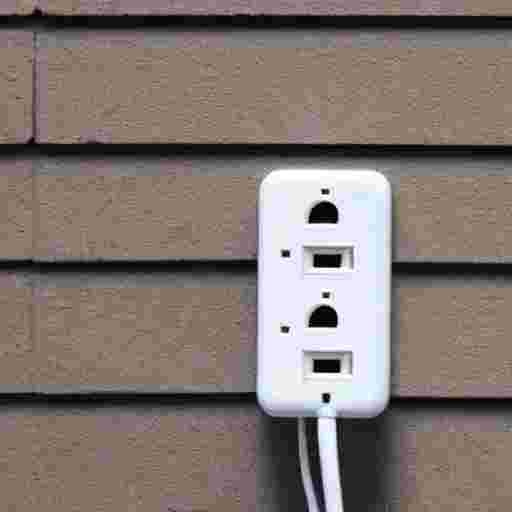power outlet: (257, 169, 390, 416)
